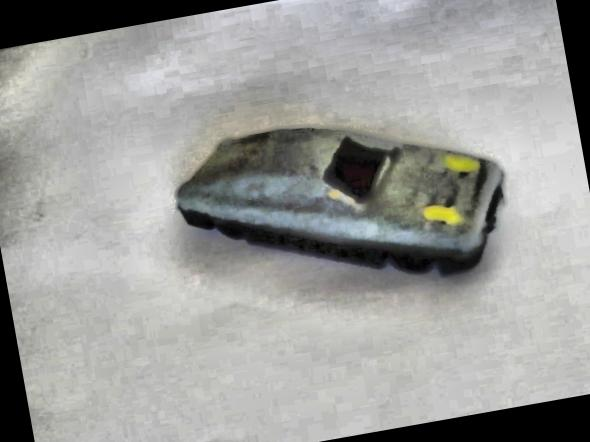normal_car: (146, 74, 534, 330)
